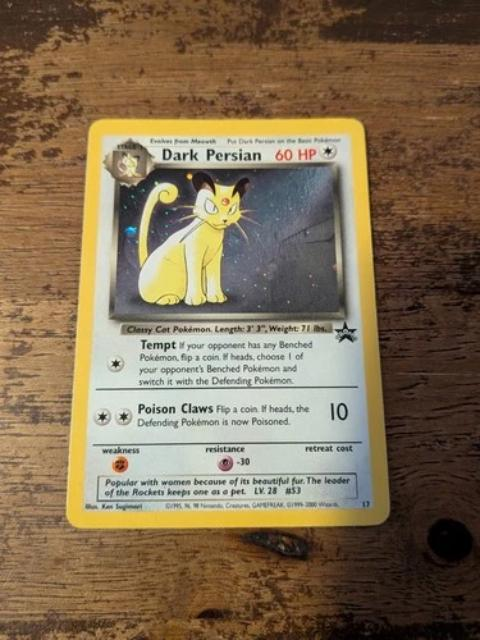Card: (60, 113, 396, 534)
Name: (160, 145, 268, 166)
